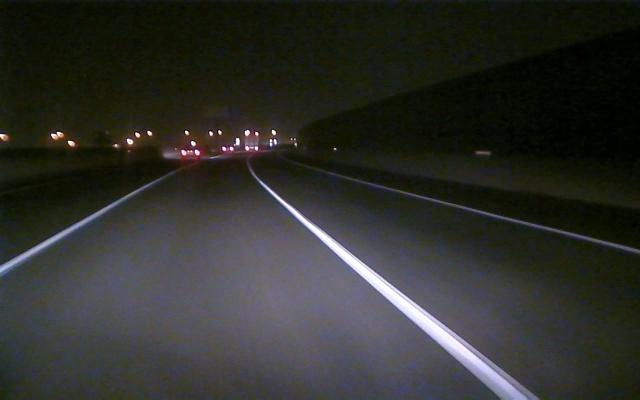lane: (257, 181, 540, 399), (350, 176, 640, 256), (2, 178, 162, 272)
